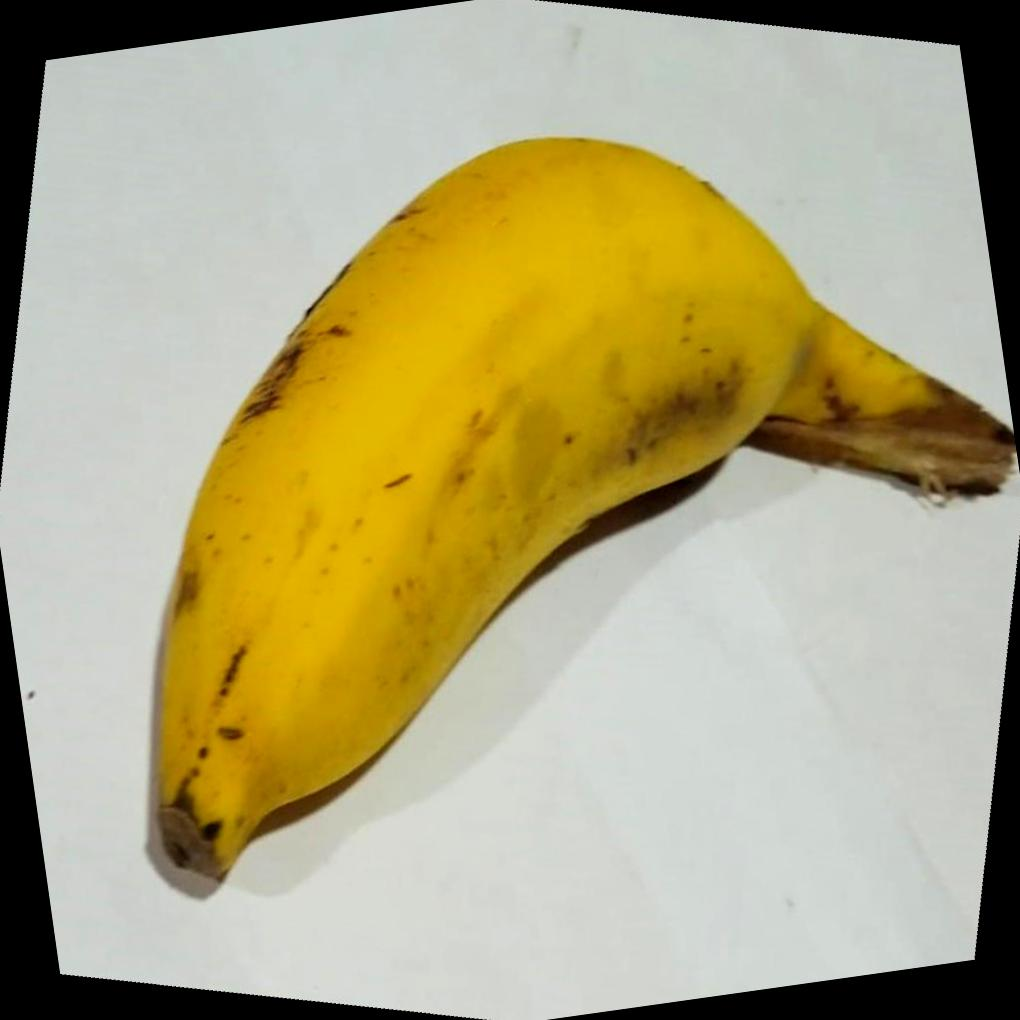Banana Ripe: (55, 52, 1020, 908)
